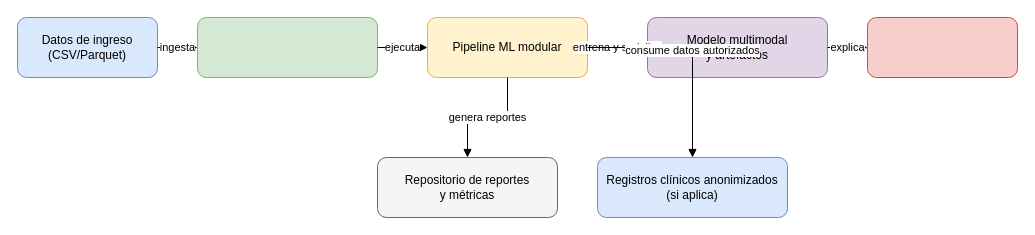
Image size: 1035x235. Some labels were removed from this diagram. The shapes that lost their labels are listed below. From the top down, each one's centre as x and y in pixels, then its label:
At point 287,47: "Notebook / entorno de experimentación".
At point 942,47: "Módulo SHAP / explicabilidad".
